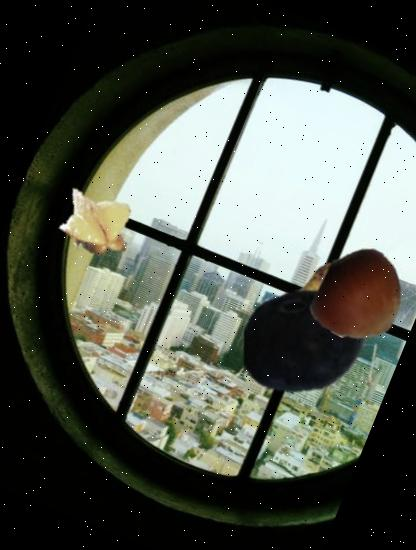Blueberry: (224, 262, 384, 422)
Carambula: (42, 172, 148, 277)
Nut: (300, 233, 416, 355)
Pear: (270, 246, 366, 342)
